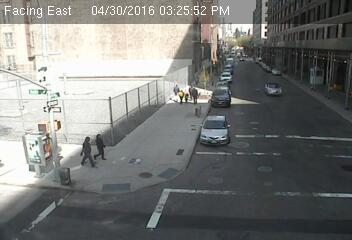neg: (266, 98, 289, 129), (228, 58, 251, 88), (135, 107, 156, 134), (295, 86, 315, 113), (244, 111, 262, 135), (274, 35, 288, 54), (188, 126, 202, 144), (217, 132, 230, 149), (294, 65, 305, 80), (260, 77, 271, 91), (219, 93, 230, 107), (213, 60, 223, 74)
pos: (74, 132, 96, 161), (88, 132, 110, 160), (187, 83, 204, 107), (175, 88, 186, 103), (168, 78, 179, 92)
